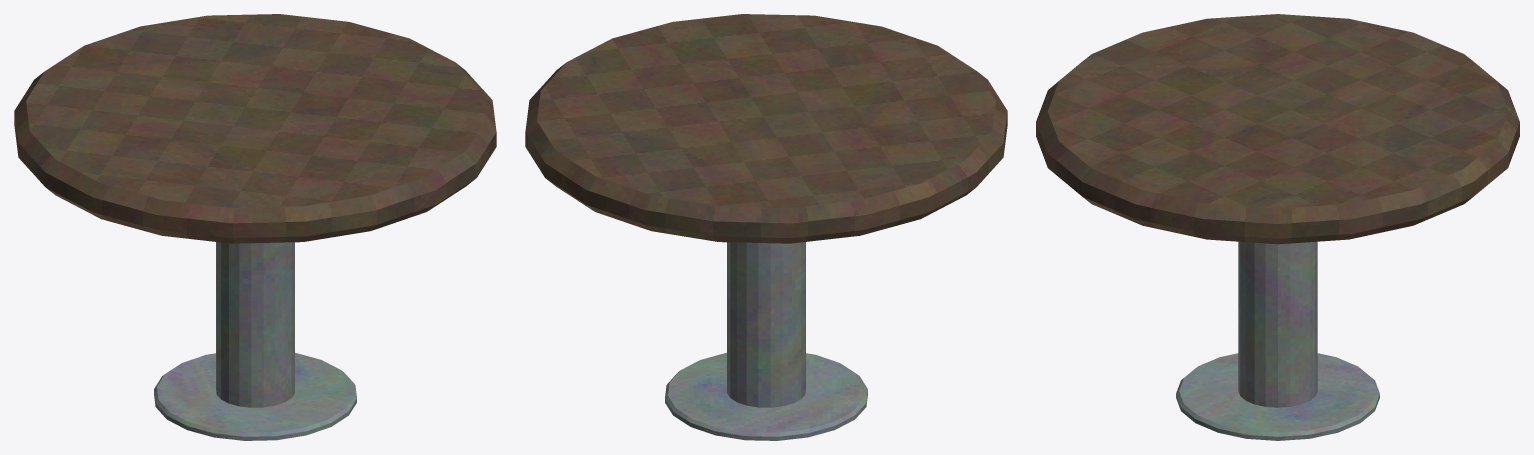
Rendered from Table.glb.
3 views of the same model, side by side, from view 1: azimuth 30°, elevation 25°; view 2: azimuth 150°, elevation 25°; view 3: azimuth 270°, elevation 25° (orthographic).
Visible parts, largest first — view 1: table; view 2: table; view 3: table.
Boxes of the visible parts, x1,y1,x2,y2 form: table: [14, 14, 496, 440]; table: [525, 14, 1007, 440]; table: [1036, 14, 1519, 440].
Bounding box in the file's own units: 2.3 × 1.5 × 2.3.
Materials: 1 (1 with a texture image).
